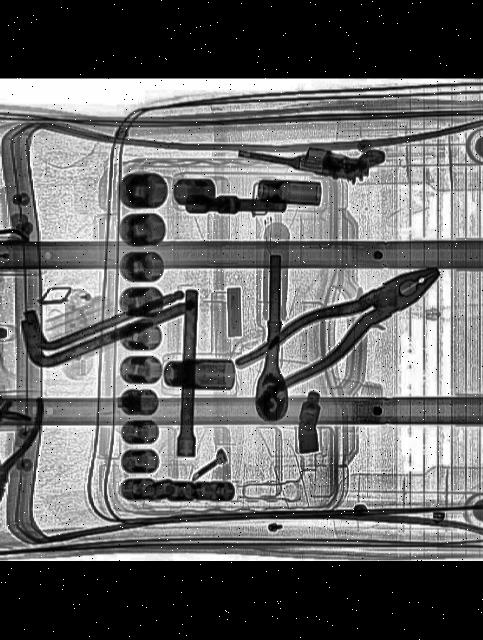Gun: (232, 120, 384, 190)
Pliers: (228, 248, 458, 404), (0, 390, 47, 536)
